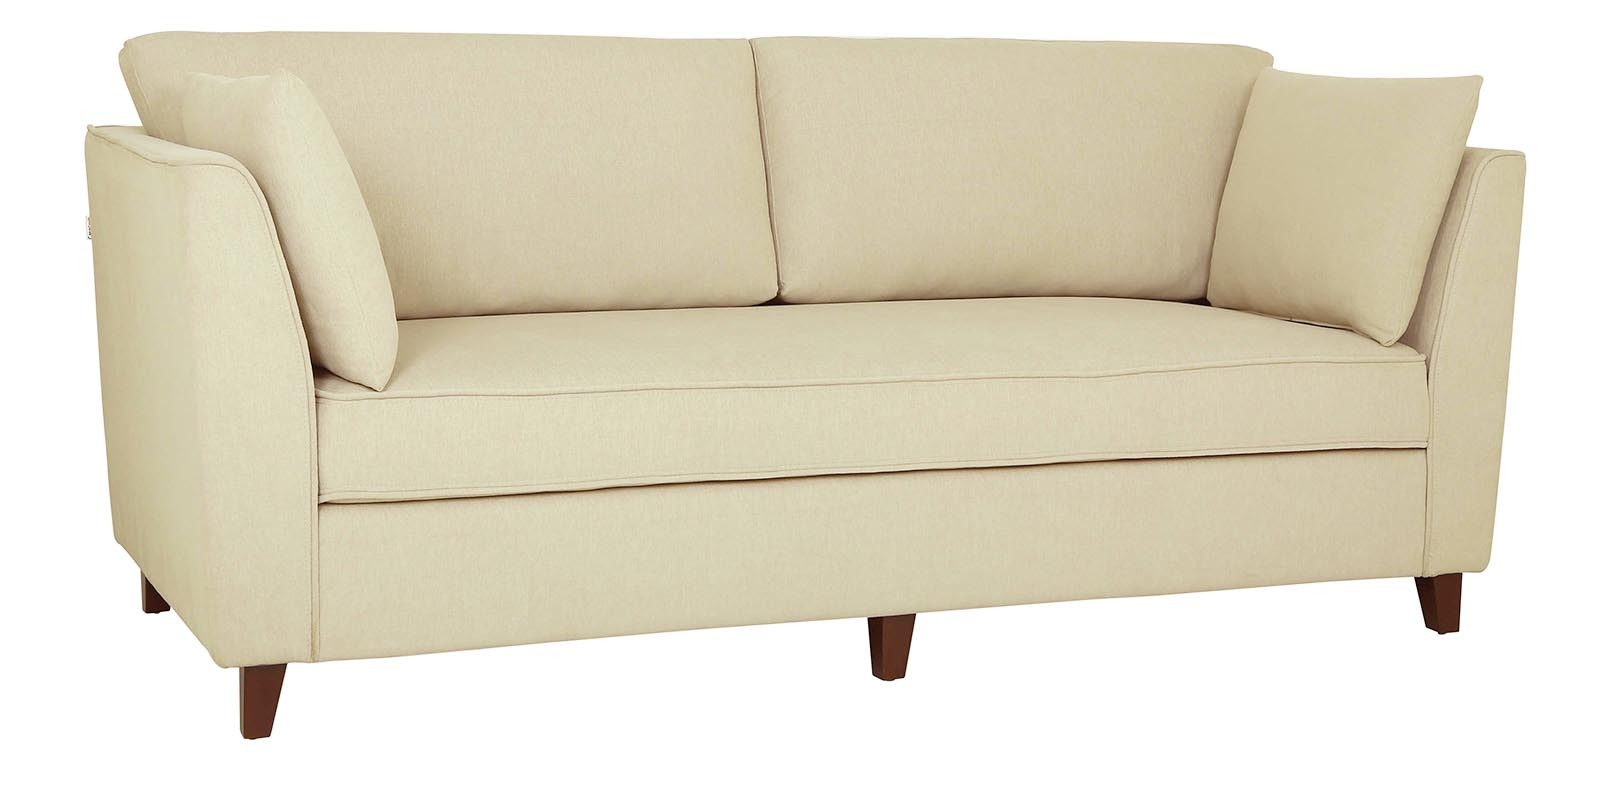Miranda Three Seater Sofa in Beige Colour by CasaCraft: (85, 28, 1528, 739)
